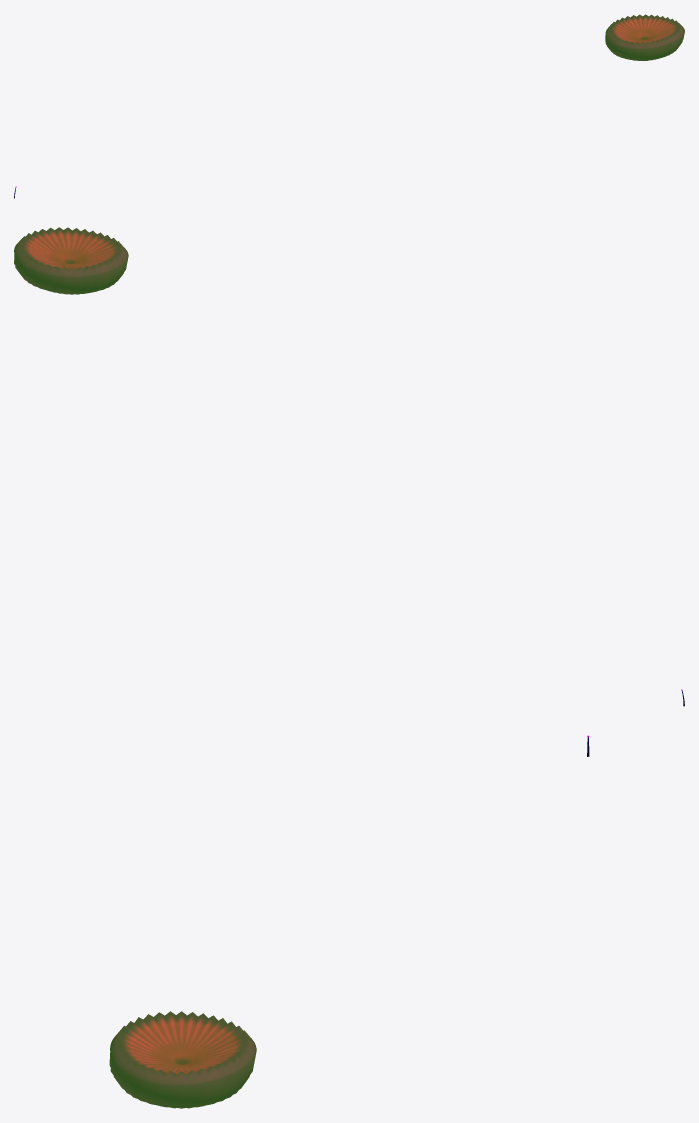
Rendered from scolymia.glb.
3 views of the same model, one above another, from view 1: azimuth 30°, elevation 25°; view 2: azimuth 150°, elevation 25°; view 3: azimuth 270°, elevation 25° (orthographic). The views are drawn at different scales.
Parts seen in each view (by area): view 1: Body; view 2: Body; view 3: Body.
Part boxes in pixels (<box>): Body: <box>605,14,684,60</box>; Body: <box>14,227,128,294</box>; Body: <box>109,1011,256,1108</box>.
Size of the model in its own units: 64.14 by 12.57 by 23.61.
2 materials, 2 textured.
